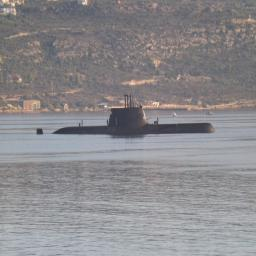submarine: (23, 91, 219, 132)
